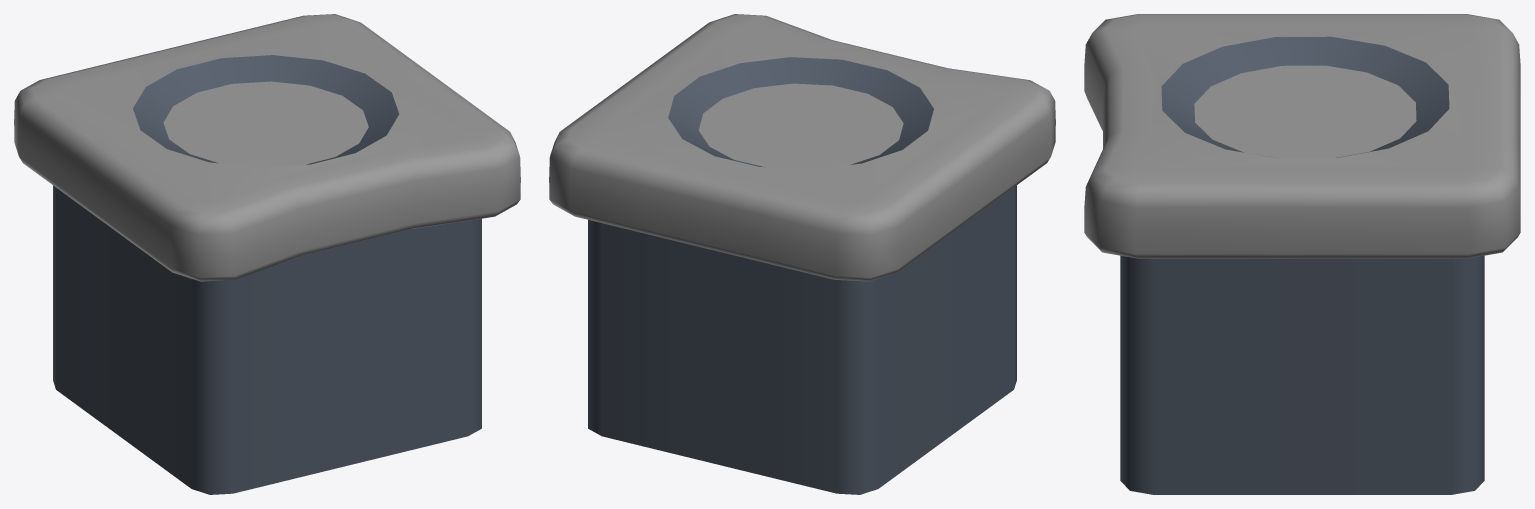
File: TabakSpawn.fbx
3 views of the same model, side by side, from view 1: azimuth 30°, elevation 25°; view 2: azimuth 150°, elevation 25°; view 3: azimuth 270°, elevation 25° (orthographic). The views are drawn at different scales.
Visible parts, largest first — view 1: TabakSpawn; view 2: TabakSpawn; view 3: TabakSpawn.
Part boxes in pixels (bbox=[...]): TabakSpawn: bbox=[14, 14, 520, 494]; TabakSpawn: bbox=[549, 14, 1055, 494]; TabakSpawn: bbox=[1084, 14, 1520, 494].
Size of the model in its own units: 120 by 97.05 by 120.
